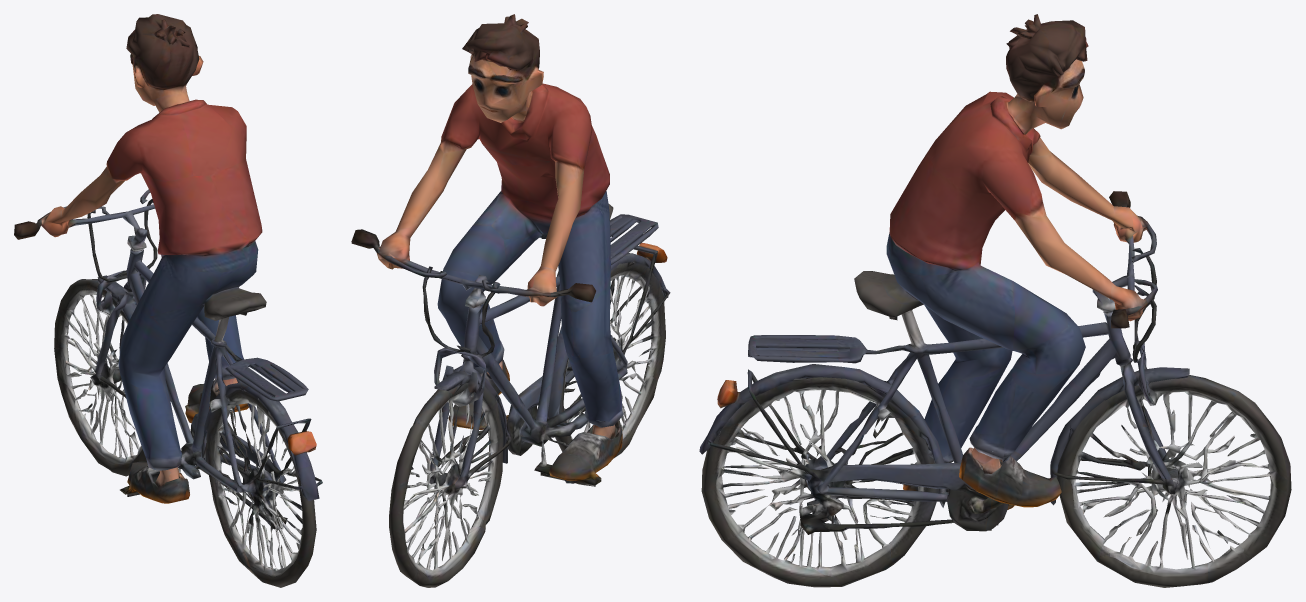
The model's file is bicycle.glb.
3 renders of one model, left to right at view 1: azimuth 30°, elevation 25°; view 2: azimuth 150°, elevation 25°; view 3: azimuth 270°, elevation 25°, orthographic. The views are drawn at different scales.
Bounding box in the file's own units: 0.4815 × 0.9971 × 0.9375.
1 material, 1 textured.
